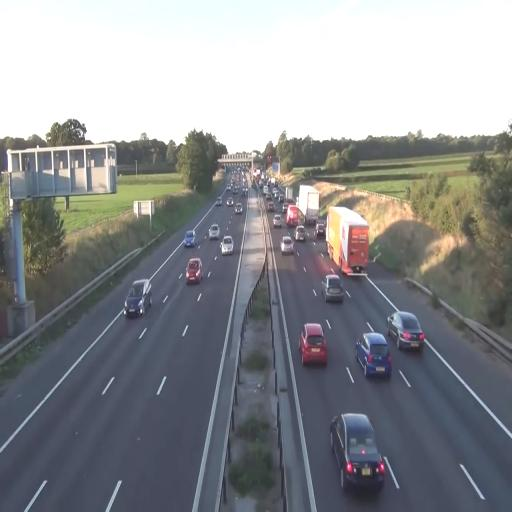vehicle: (330, 412, 386, 493), (324, 204, 370, 277), (356, 330, 392, 380), (388, 310, 425, 352), (299, 322, 328, 368), (124, 280, 150, 318), (322, 273, 344, 305), (186, 257, 202, 285), (220, 235, 234, 255), (280, 236, 294, 254), (208, 222, 220, 240), (295, 227, 307, 242), (185, 231, 195, 247)
